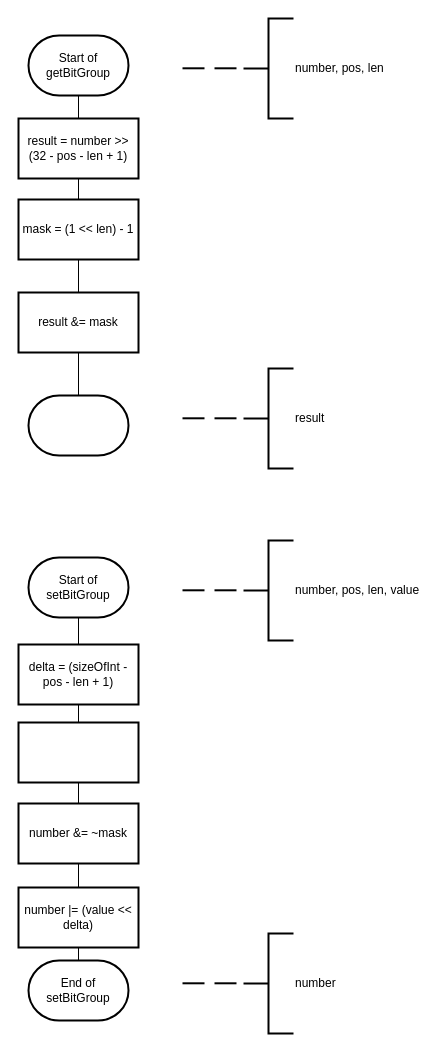
The diagram is 436 pixels wide and 1051 high, and some of its shapes have lost their labels. Each missing label, with the centre of its shape:
"End of getBitGroup" goes at (78,425).
"mask = ((1 << len) - 1) << (sizeOfInt - pos - len + 1)" goes at (78,752).
